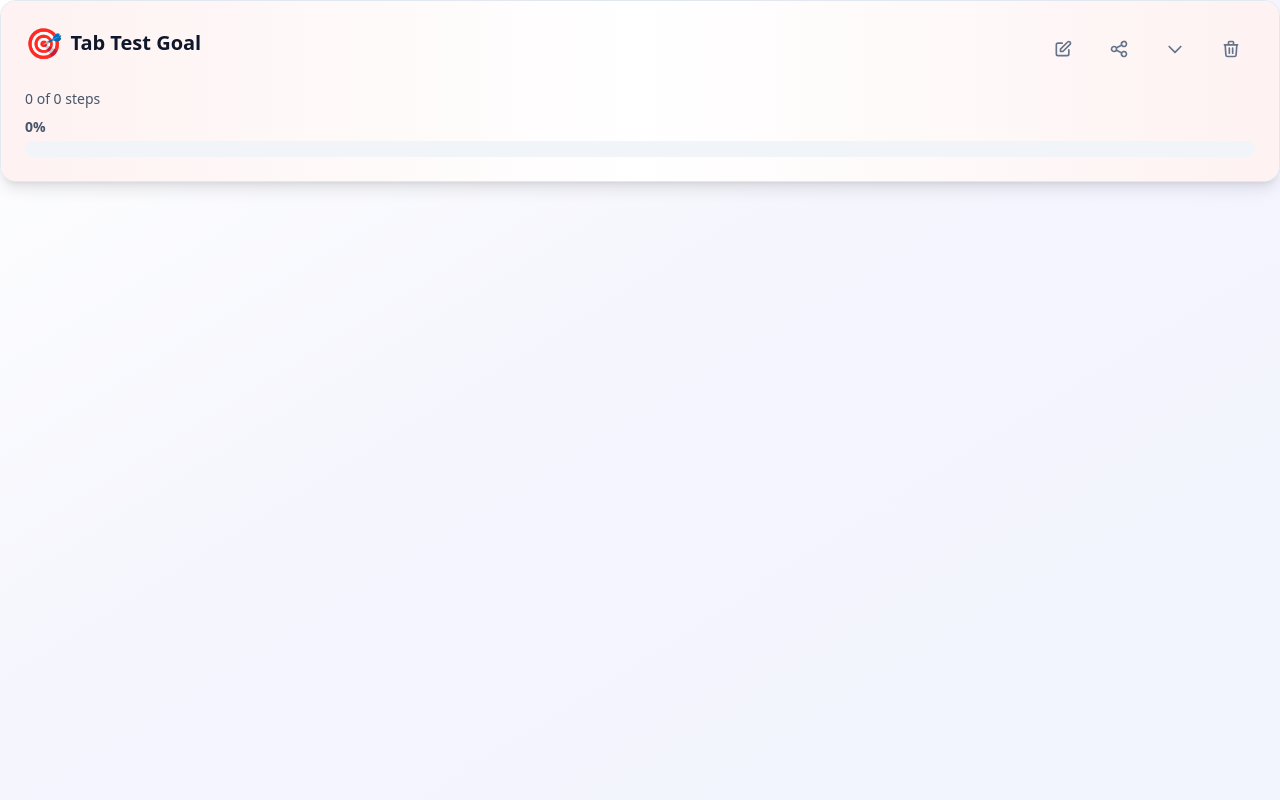
GoalCard › GoalCard tab visibility › shows Analytics tab when totalTasks > 0
Click the button titled "Expand".
click(1175, 49)  # box 1151,25 -> 1199,73
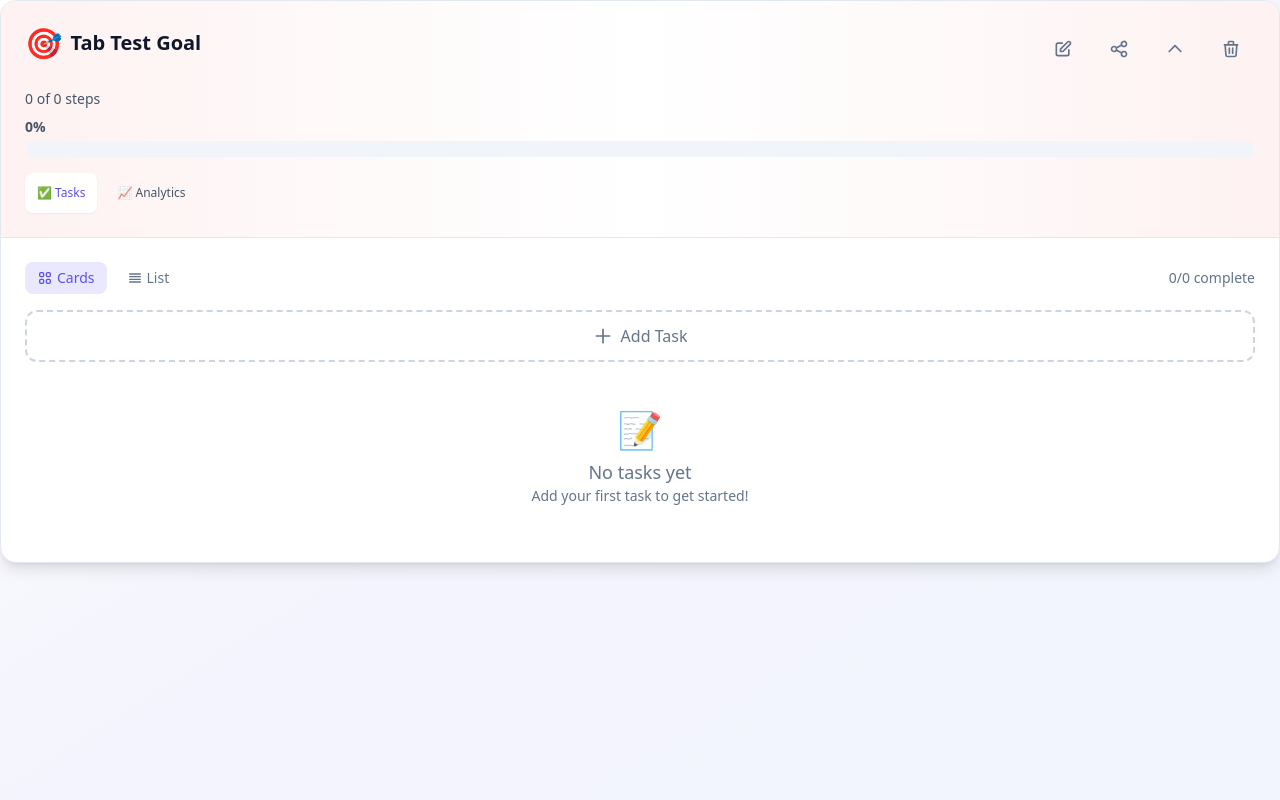
Expected: the tab "📈 Analytics" is shown, 105,173 -> 198,213
